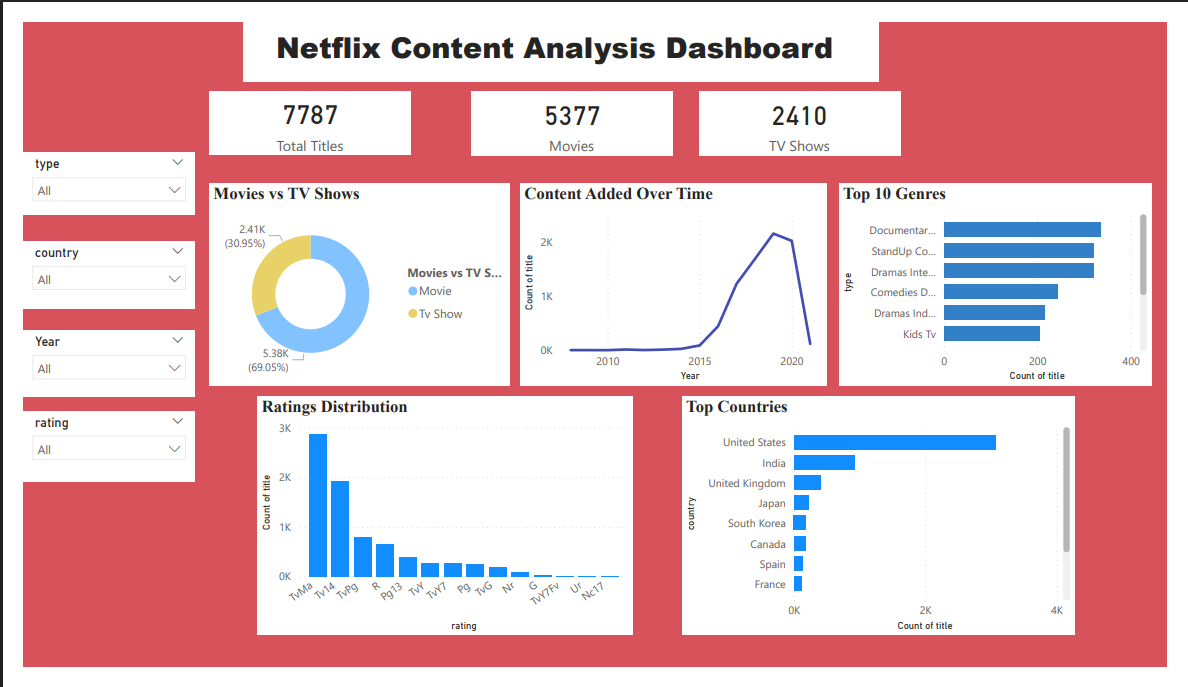

What the dashboard file says about the page in this screenshot:
{"tool":"powerbi","page":{"name":"Page 1","canvas":[1280,720],"ordinal":0},"visuals":[{"type":"textbox","box":[246.5,0,711.3,66.2],"z":0},{"type":"donutChart","title":"Movies vs TV Shows","fields":{"Y":["CountNonNull(Sheet1.title)"],"Category":["Sheet1.category"]},"box":[208.5,180.3,335.2,225.4],"z":1000},{"type":"card","fields":{"Values":["CountNonNull(Sheet1.title)"]},"box":[208.5,77.5,225.4,70.4],"z":2000},{"type":"card","fields":{"Values":["CountNonNull(Sheet1.title)"]},"box":[501.4,77.5,225.4,71.8],"z":3000},{"type":"card","fields":{"Values":["CountNonNull(Sheet1.title)"]},"box":[756.3,77.5,225.4,71.8],"z":4000},{"type":"clusteredBarChart","title":"Top 10 Genres","fields":{"Y":["CountNonNull(Sheet1.title)"],"Category":["Sheet1.type"]},"box":[912.7,180.3,350.7,225.4],"z":5000},{"type":"lineChart","title":"Content Added Over Time","fields":{"Category":["Sheet1.release_date.Variation.Date Hierarchy.Year"],"Y":["CountNonNull(Sheet1.title)"]},"box":[556.3,180.3,342.3,225.4],"z":6000},{"type":"clusteredColumnChart","title":"Ratings Distribution","fields":{"Category":["Sheet1.rating"],"Y":["CountNonNull(Sheet1.title)"]},"box":[262,418.3,419.7,266.2],"z":7000},{"type":"slicer","fields":{"Values":["Sheet1.type"]},"box":[0,145.1,191.5,70.4],"z":7001},{"type":"slicer","fields":{"Values":["Sheet1.country"]},"box":[0,243.7,191.5,76.1],"z":7002},{"type":"slicer","fields":{"Values":["Sheet1.release_date.Variation.Date Hierarchy.Year"]},"box":[0,343.7,191.5,74.6],"z":7003},{"type":"slicer","fields":{"Values":["Sheet1.rating"]},"box":[0,433.8,191.5,78.9],"z":7004},{"type":"barChart","title":"Top Countries","fields":{"Category":["Sheet1.country"],"Y":["CountNonNull(Sheet1.title)"]},"box":[736.6,418.3,440.8,266.2],"z":7005}]}

Visuals, with their boxes in screenshot pixels (x1, y1, x2, y2), scaled from the page's 1280x720 canvas onto the 1188x687 screenshot:
textbox: crop(229, 0, 889, 63)
"Movies vs TV Shows" donutChart: crop(194, 172, 505, 387)
card - CountNonNull(Sheet1.title): crop(194, 74, 403, 141)
card - CountNonNull(Sheet1.title): crop(465, 74, 675, 142)
card - CountNonNull(Sheet1.title): crop(702, 74, 911, 142)
"Top 10 Genres" clusteredBarChart: crop(847, 172, 1173, 387)
"Content Added Over Time" lineChart: crop(516, 172, 834, 387)
"Ratings Distribution" clusteredColumnChart: crop(243, 399, 633, 653)
slicer - Sheet1.type: crop(0, 138, 178, 206)
slicer - Sheet1.country: crop(0, 233, 178, 305)
slicer - Sheet1.release_date.Variation.Date Hierarchy.Year: crop(0, 328, 178, 399)
slicer - Sheet1.rating: crop(0, 414, 178, 489)
"Top Countries" barChart: crop(684, 399, 1093, 653)
